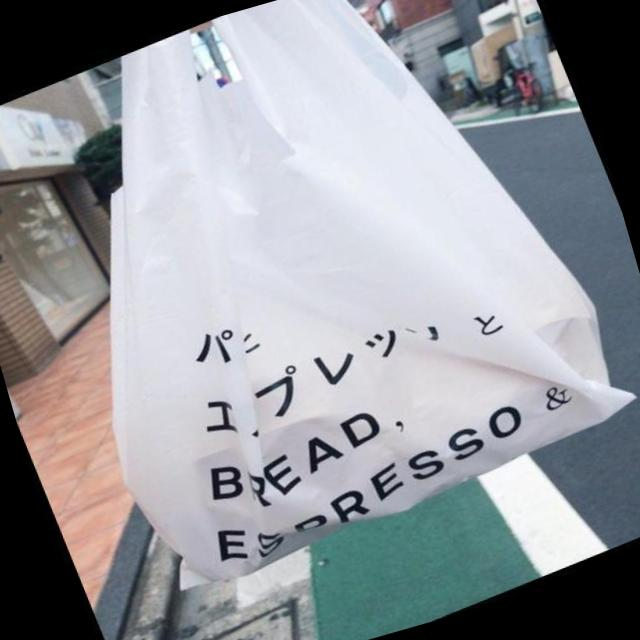KantongPlastik: (5, 0, 640, 602)
